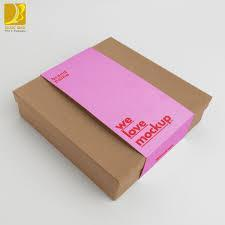box: (13, 36, 213, 202)
